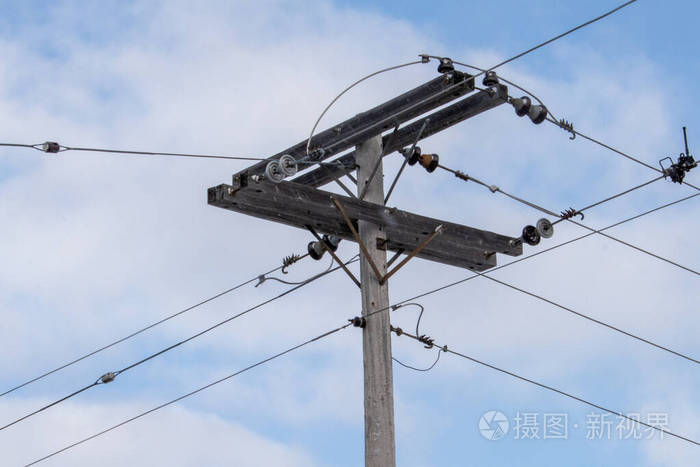insulator: (511, 93, 551, 125), (404, 143, 441, 173), (263, 155, 298, 185), (522, 215, 553, 246), (308, 235, 338, 261)
